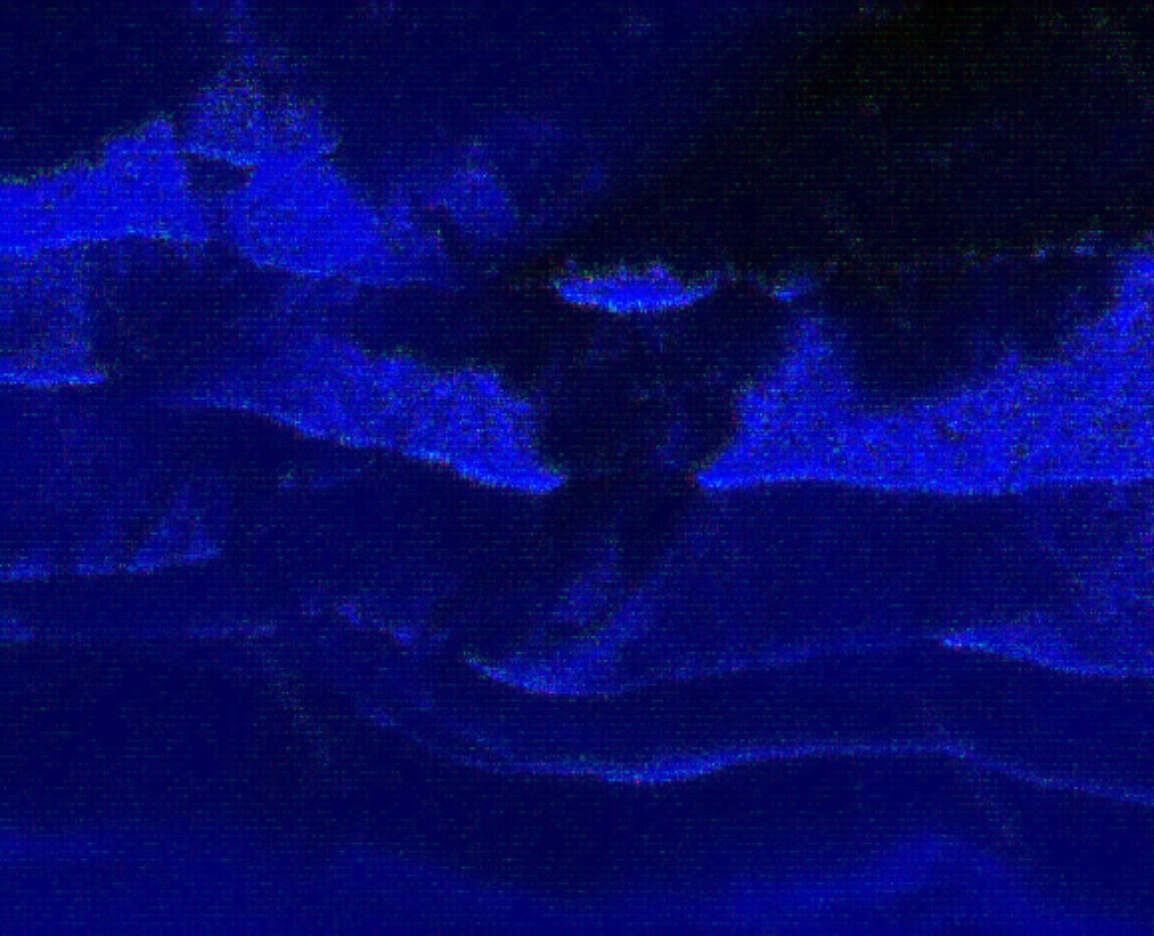rip_current: (419, 107, 779, 679)
